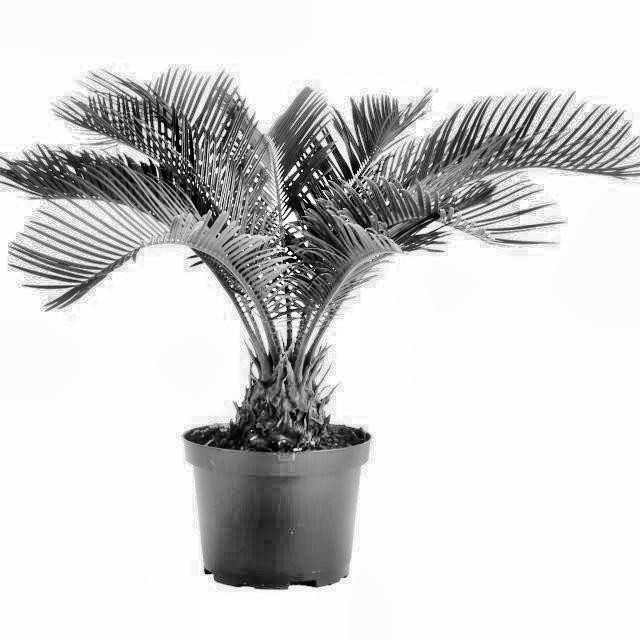plants: (66, 69, 440, 431)
